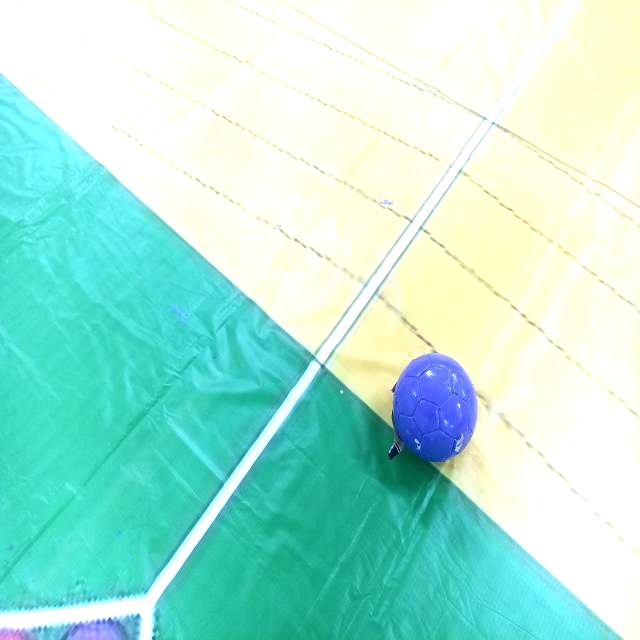purple_ball: (389, 350, 484, 470)
